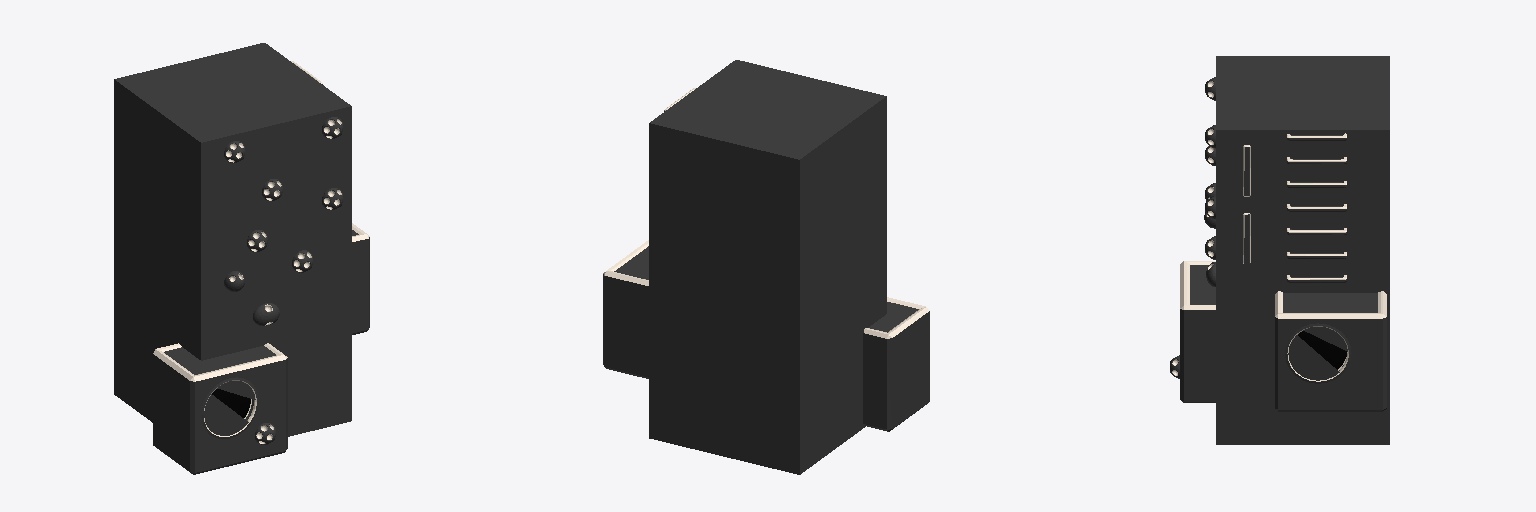
The model's file is Scifi.obj.
The picture shows the model from 3 angles: view 1: azimuth 30°, elevation 25°; view 2: azimuth 150°, elevation 25°; view 3: azimuth 270°, elevation 25°; orthographic projection.
Parts seen in each view (by area): view 1: Cube.003_Cube.004, Cube, Cube.001_Cube.002, Cube.002; view 2: Cube.003_Cube.004, Cube, Cube.001_Cube.002, Cube.002; view 3: Cube.003_Cube.004, Cube, Cube.002, Cube.001_Cube.002.
Boxes of the visible parts, x1=… form: Cube.003_Cube.004: x1=114, y1=43, x2=351, y2=299; Cube: x1=114, y1=237, x2=351, y2=436; Cube.001_Cube.002: x1=153, y1=343, x2=287, y2=474; Cube.002: x1=352, y1=223, x2=369, y2=334; Cube.003_Cube.004: x1=649, y1=60, x2=886, y2=316; Cube: x1=649, y1=254, x2=886, y2=474; Cube.001_Cube.002: x1=863, y1=297, x2=929, y2=431; Cube.002: x1=603, y1=240, x2=648, y2=378; Cube.003_Cube.004: x1=1216, y1=56, x2=1389, y2=286; Cube: x1=1216, y1=287, x2=1389, y2=444; Cube.002: x1=1275, y1=291, x2=1386, y2=411; Cube.001_Cube.002: x1=1180, y1=261, x2=1215, y2=402.
Bounding box in the file's own units: 3.02 × 4 × 2.53.